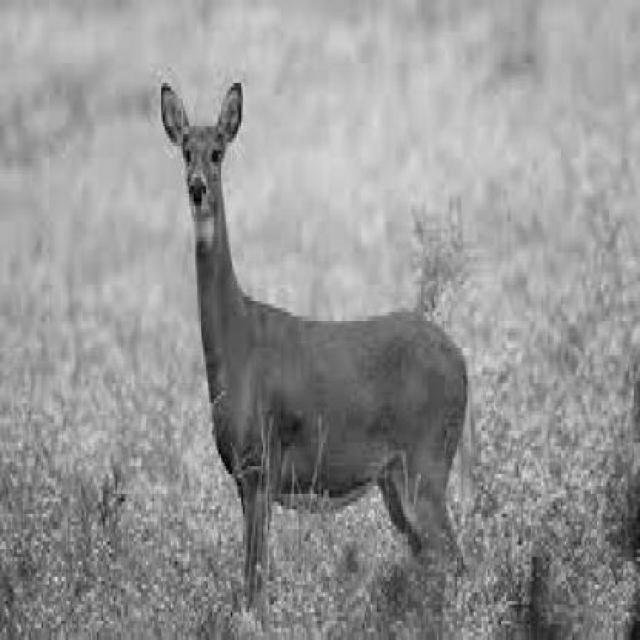Deer: (152, 72, 476, 604)
